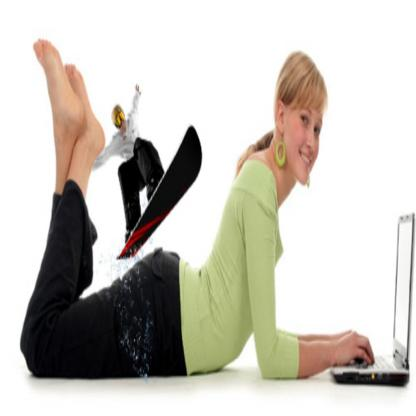board: (331, 212, 415, 385)
